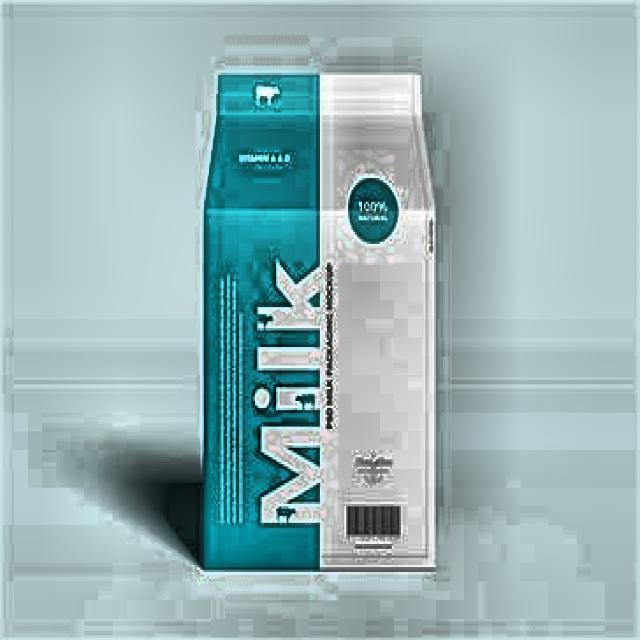cardboard: (200, 70, 436, 572)
